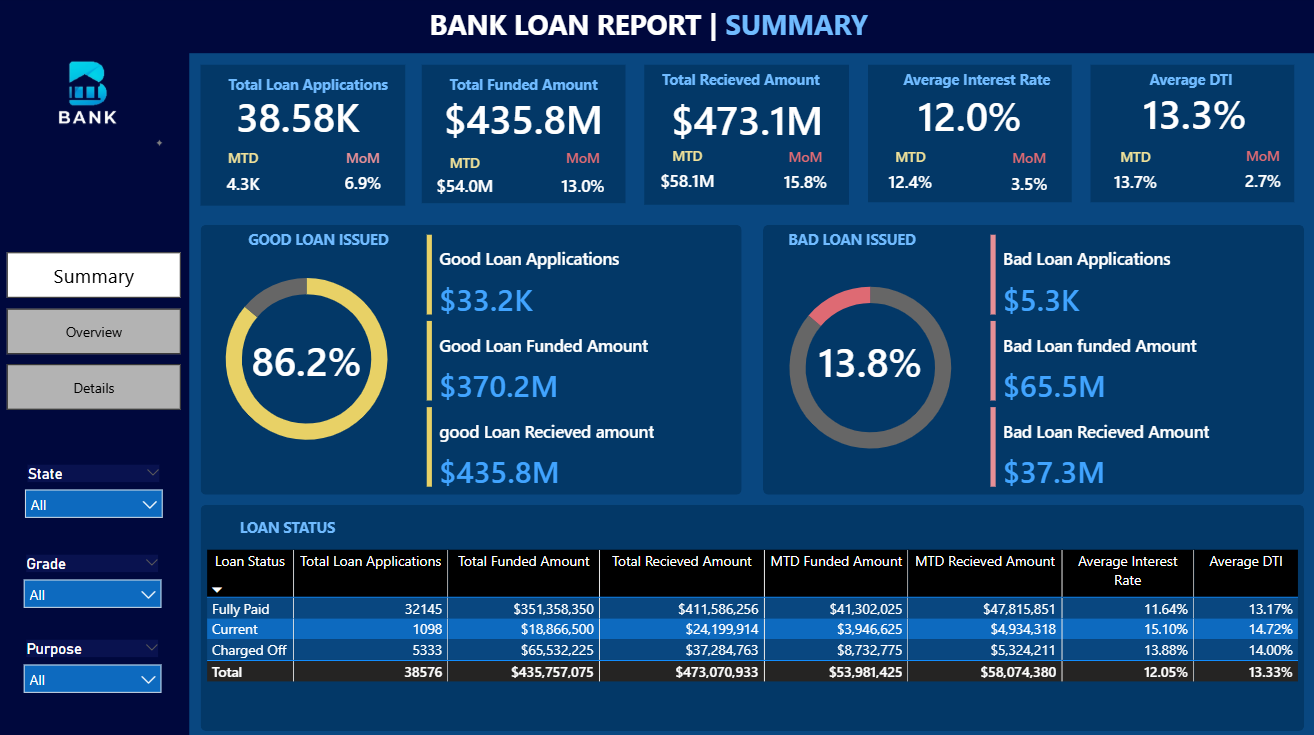

This screenshot's page, from the dashboard's own definition file:
{"tool":"powerbi","page":{"name":"Summary","canvas":[1280,720],"ordinal":0},"visuals":[{"type":"shape","box":[0,0,189.4,720.2],"z":0},{"type":"shape","box":[126.6,0,1153.4,55.5],"z":1000},{"type":"textbox","box":[415.8,4.1,447.3,46.7],"z":2000},{"type":"shape","box":[200.3,66.4,197.9,136.3],"z":3000},{"type":"card","fields":{"Values":["All Measures.Total Loan Applications"]},"box":[209.4,88.6,168.9,56.7],"z":4000},{"type":"textbox","box":[221.5,71.7,174.9,39.8],"z":5000},{"type":"card","title":"MTD","fields":{"Values":["All Measures.MTD Loan Application"]},"box":[200,147.6,82.3,54.9],"z":6000},{"type":"card","title":"MoM","fields":{"Values":["All Measures.MoM Loan Application"]},"box":[315.6,147.7,82,53.1],"z":7000},{"type":"shape","box":[413.8,66.4,196.6,133.9],"z":8000},{"type":"card","fields":{"Values":["All Measures.Total Funded Amount"]},"box":[415.7,91,191.8,55.5],"z":9000},{"type":"textbox","box":[435,71.7,174.9,39.8],"z":10000},{"type":"card","title":"MoM","fields":{"Values":["All Measures.MoM Funded Amount"]},"box":[527.9,147.7,82,57.9],"z":11000},{"type":"card","title":"MTD","fields":{"Values":["All Measures.MTD Funded Amount"]},"box":[413.3,152.5,83.2,48.3],"z":12000},{"type":"shape","box":[628.3,65.9,197.9,135.1],"z":13000},{"type":"card","fields":{"Values":["All Measures.Total Recieved Amount"]},"box":[631.9,90,191.8,56.7],"z":14000},{"type":"textbox","box":[640.4,65.9,174.9,39.8],"z":15000},{"type":"card","title":"MoM","fields":{"Values":["All Measures.MoM Recieved Amount"]},"box":[742.9,145.5,82,53.1],"z":16000},{"type":"card","title":"MTD","fields":{"Values":["All Measures.MTD Recieved Amount"]},"box":[628.3,144.3,83.2,54.3],"z":17000},{"type":"shape","box":[844.3,65.9,196.6,132.7],"z":18000},{"type":"card","fields":{"Values":["All Measures.Average Interest rate"]},"box":[846.7,86.4,191.8,56.7],"z":19000},{"type":"textbox","box":[873.2,65.9,174.9,39.8],"z":20000},{"type":"card","title":"MoM","fields":{"Values":["All Measures.MoM average interest rate"]},"box":[958.9,146.7,82,54.3],"z":21000},{"type":"card","title":"MTD","fields":{"Values":["All Measures.MTD average Int Rate"]},"box":[844.3,145.5,82,54.3],"z":22000},{"type":"shape","box":[1059.3,66.4,196.6,132.7],"z":23000},{"type":"card","fields":{"Values":["All Measures.Average Dti"]},"box":[1063.8,87.6,191.8,50.7],"z":24000},{"type":"textbox","box":[1110.9,65.9,144.8,39.8],"z":25000},{"type":"card","title":"MoM","fields":{"Values":["All Measures.MoM average Dti"]},"box":[1184.7,145,82,54.3],"z":26000},{"type":"card","title":"MTD","fields":{"Values":["All Measures.MTD average Dti"]},"box":[1061.4,145.5,82,54.3],"z":27000},{"type":"shape","box":[200.3,220.8,522.4,260.6],"z":28000},{"type":"shape","box":[743.2,220.8,522.4,260.6],"z":29000},{"type":"donutChart","fields":{"Category":["Bank Loan Data.Good Vs Bad Loan"],"Y":["All Measures.Total Loan Applications"]},"box":[200.3,235.3,205.1,230.4],"z":30000},{"type":"card","fields":{"Values":["All Measures.Good Loan %"]},"box":[242.5,323.3,120.6,56.7],"z":31000},{"type":"textbox","box":[241.3,220.8,174.9,31.4],"z":32000},{"type":"cardVisual","fields":{"Data":["All Measures.good loan applications","All Measures.good Loan funded amount","All Measures.good Loan Recieved amount"]},"box":[413.8,225.6,289.5,253.4],"z":33000},{"type":"card","fields":{"Values":["All Measures.Bad Loan %"]},"box":[786.6,324.5,120.6,56.7],"z":34000},{"type":"textbox","box":[762.8,221.1,174.9,31.4],"z":35000},{"type":"donutChart","fields":{"Category":["Bank Loan Data.Good Vs Bad Loan"],"Y":["All Measures.Total Loan Applications"]},"box":[744.4,243.7,205.1,230.4],"z":36000},{"type":"shape","box":[200.3,491,1065.3,218.4],"z":36500},{"type":"cardVisual","fields":{"Data":["All Measures.Bad Loan Applications","All Measures.Bad Loan funded Amount","All Measures.Bad Loan Recieved Amount"]},"box":[957.9,225.6,289.5,253.4],"z":37000},{"type":"tableEx","fields":{"Values":["Bank Loan Data.loan_status","All Measures.Total Loan Applications","All Measures.Total Funded Amount","All Measures.Total Recieved Amount","All Measures.MTD Funded Amount","All Measures.MTD Recieved Amount","All Measures.Average Interest rate","All Measures.Average Dti"]},"box":[200.3,529.6,1072.5,153.2],"z":39000},{"type":"textbox","box":[229.2,498.3,174.9,31.4],"z":40000},{"type":"slicer","fields":{"Values":["Bank Loan Data.address_state"]},"box":[20.5,447.6,153.2,66.4],"z":41000},{"type":"slicer","fields":{"Values":["Bank Loan Data.grade"]},"box":[19.3,534.5,153.2,66.4],"z":42000},{"type":"slicer","fields":{"Values":["Bank Loan Data.purpose"]},"box":[19.3,616.5,153.2,66.4],"z":43000},{"type":"pageNavigator","box":[13.3,247.3,168.9,153.2],"z":44000},{"type":"image","box":[10.9,14.5,161.7,158],"z":45000}]}

Visuals, with their boxes in screenshot pixels (x1, y1, x2, y2), scaled from the page's 1280x720 canvas onto the 1314x735 screenshot:
shape: 0,0,194,734
shape: 130,0,1313,57
textbox: 427,4,886,52
shape: 206,68,409,207
card - All Measures.Total Loan Applications: 215,90,388,148
textbox: 227,73,407,114
"MTD" card: 205,151,290,207
"MoM" card: 324,151,408,205
shape: 425,68,627,204
card - All Measures.Total Funded Amount: 427,93,624,150
textbox: 447,73,626,114
"MoM" card: 542,151,626,210
"MTD" card: 424,156,510,205
shape: 645,67,848,205
card - All Measures.Total Recieved Amount: 649,92,846,150
textbox: 657,67,837,108
"MoM" card: 763,149,847,203
"MTD" card: 645,147,730,203
shape: 867,67,1069,203
card - All Measures.Average Interest rate: 869,88,1066,146
textbox: 896,67,1076,108
"MoM" card: 984,150,1069,205
"MTD" card: 867,149,951,204
shape: 1087,68,1289,203
card - All Measures.Average Dti: 1092,89,1289,141
textbox: 1140,67,1289,108
"MoM" card: 1216,148,1300,203
"MTD" card: 1090,149,1174,204
shape: 206,225,742,491
shape: 763,225,1299,491
donutChart - Bank Loan Data.Good Vs Bad Loan x All Measures.Total Loan Applications: 206,240,416,475
card - All Measures.Good Loan %: 249,330,373,388
textbox: 248,225,427,257
cardVisual - All Measures.good loan applications x All Measures.good Loan funded amount: 425,230,722,489
card - All Measures.Bad Loan %: 807,331,931,389
textbox: 783,226,963,258
donutChart - Bank Loan Data.Good Vs Bad Loan x All Measures.Total Loan Applications: 764,249,975,484
shape: 206,501,1299,724
cardVisual - All Measures.Bad Loan Applications x All Measures.Bad Loan funded Amount: 983,230,1281,489
tableEx - Bank Loan Data.loan_status x All Measures.Total Loan Applications: 206,541,1307,697
textbox: 235,509,415,541
slicer - Bank Loan Data.address_state: 21,457,178,525
slicer - Bank Loan Data.grade: 20,546,177,613
slicer - Bank Loan Data.purpose: 20,629,177,697
pageNavigator: 14,252,187,409
image: 11,15,177,176
